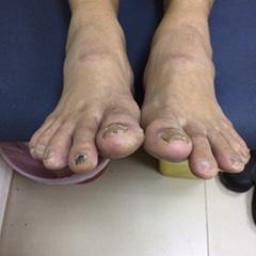Front View -Both Feet-: (16, 1, 252, 206)
